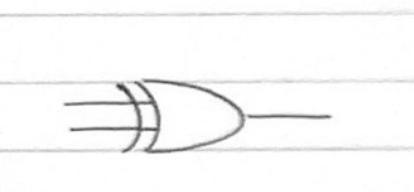XOR: (107, 73, 263, 164)
